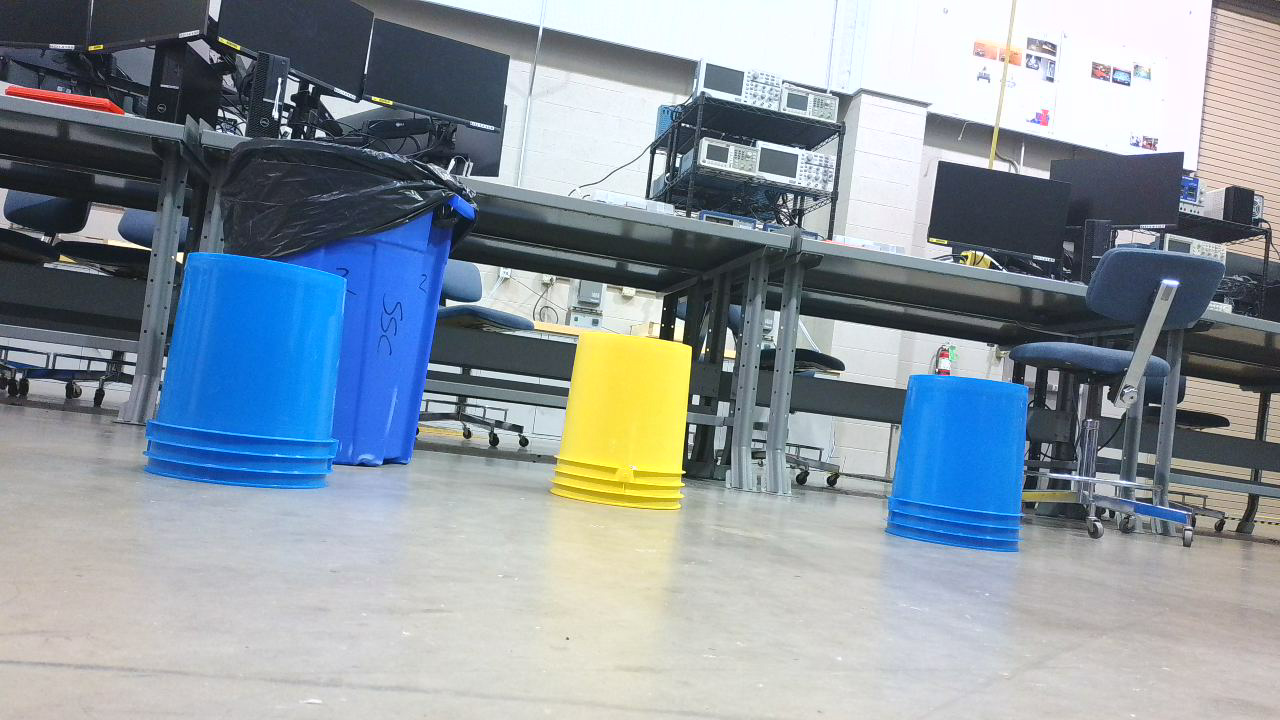blue_bucket: (145, 248, 357, 504), (884, 374, 1039, 562)
yellow_bucket: (550, 329, 707, 523)
